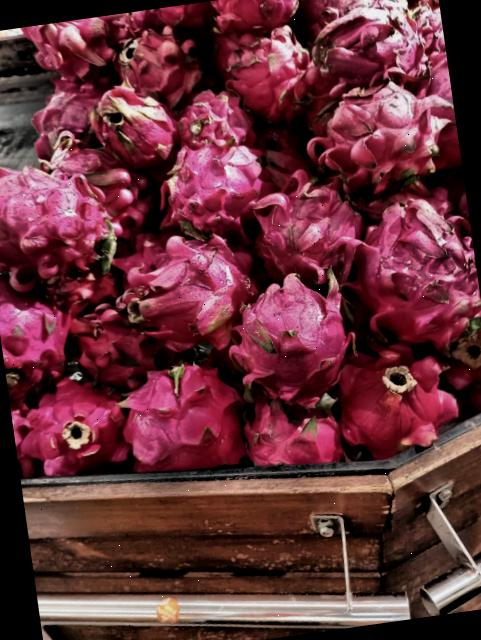buah-naga-matang: (346, 194, 481, 357), (225, 272, 360, 410), (111, 232, 268, 348), (110, 356, 248, 483), (0, 148, 122, 291), (307, 78, 445, 199), (239, 164, 368, 291), (326, 334, 460, 455), (302, 0, 440, 110), (150, 133, 276, 240), (14, 376, 131, 484), (208, 20, 316, 124), (84, 72, 182, 178), (238, 388, 350, 473), (64, 303, 174, 389), (0, 273, 71, 393), (19, 13, 128, 84), (114, 24, 208, 104), (169, 86, 262, 162), (20, 81, 109, 158), (204, 0, 305, 31)
